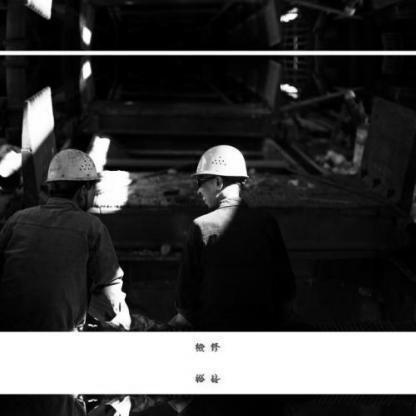helmet: (189, 137, 252, 212), (42, 143, 104, 210)
